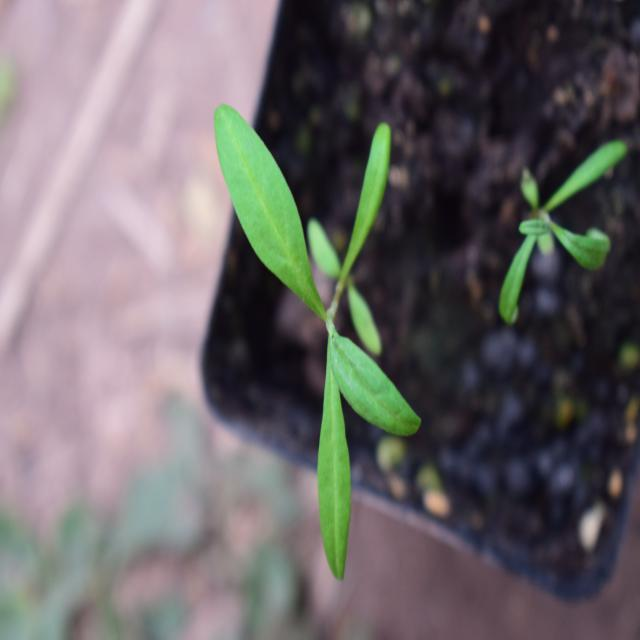white_smart_weed: (204, 79, 458, 595), (484, 111, 616, 328)
